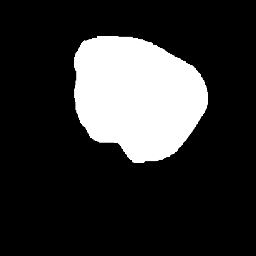mass: (75, 38, 197, 167)
